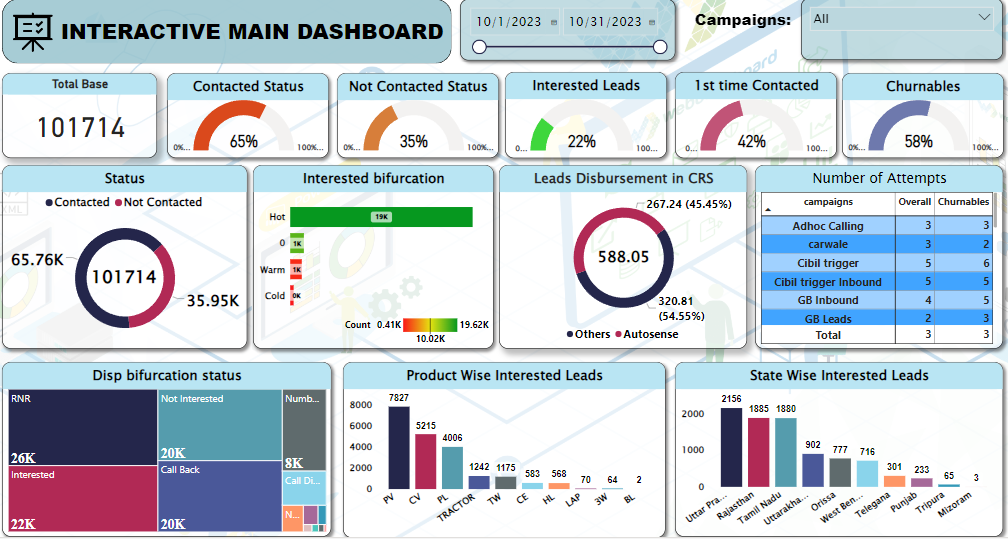

What the dashboard file says about the page in this screenshot:
{"tool":"powerbi","page":{"name":"main_dashboard","canvas":[1800,970],"ordinal":0},"visuals":[{"type":"shape","box":[9.7,15.5,797.3,114.5],"z":0},{"type":"slicer","title":"Date","fields":{"Values":["Date_lookup.Tele-calling"]},"box":[820.6,15.5,382.2,108.6],"z":1000},{"type":"slicer","title":"Campaigns","fields":{"Values":["Campaign_lookup.campaigns"]},"box":[1426,14,358,110],"z":2000},{"type":"card","title":"Total Base","fields":{"Values":["mis cons.count_mis"]},"box":[9.7,147.4,275.5,151.3],"z":3000},{"type":"gauge","title":"Contacted Status","fields":{"Y":["mis cons.%_Contacted_mis"]},"box":[300.7,147.4,287.1,151.3],"z":4000},{"type":"gauge","title":"Not Contacted Status","fields":{"Y":["mis cons.%_Not_contacted_mis"]},"box":[603.3,147.4,287.1,151.3],"z":5000},{"type":"donutChart","title":"Status","fields":{"Category":["mis cons jan.Status"],"Y":["CountNonNull(mis cons.Status)"]},"box":[9.7,310.4,434.6,325.9],"z":6000},{"type":"clusteredBarChart","title":"Interested bifurcation","fields":{"Category":["mis cons jan.LeadType","mis cons jan.Zone"],"Y":["mis cons jan.count_mis for Interested"]},"box":[454,310.4,426.8,325.9],"z":7000},{"type":"treemap","title":"Disp bifurcation status","fields":{"Values":["mis cons jan.count_mis"],"Group":["mis cons jan.corrected disp"]},"box":[9.7,659.6,583.9,310.4],"z":8000},{"type":"lineStackedColumnComboChart","title":"Product Wise Interested Leads","fields":{"Y":["mis cons jan.count_mis for Interested"],"Category":["mis cons jan.PRODUCT(PV/TW/3W/CV/CE/TRACTOR)","mis cons jan.PRODUCT INTERESTED"],"Series":["mis cons jan.PRODUCT(PV/TW/3W/CV/CE/TRACTOR)"]},"box":[613,659.6,572.3,312.3],"z":9000},{"type":"card","title":"Total Base","fields":{"Values":["mis cons jan.count_mis"]},"box":[156,486,138,46],"z":11000},{"type":"image","box":[9.7,25.2,108.6,98.9],"z":12000},{"type":"gauge","title":"Interested Leads","fields":{"Y":["mis cons.%_Interested_mis"]},"box":[900.2,145.5,287.1,153.3],"z":13000},{"type":"gauge","title":"1st time Contacted","fields":{"Y":["mis cons.%_1st_time_cont_mis"]},"box":[1202.8,145.5,287.1,153.3],"z":14000},{"type":"gauge","title":"Churnables","fields":{"Y":["mis cons.%_churnables_mis"]},"box":[1497.7,147.4,287.1,151.3],"z":15000},{"type":"lineStackedColumnComboChart","title":"State Wise Interested Leads","fields":{"Y":["mis cons.count_mis for Interested"],"Category":["mis cons.zone_mis"],"Series":["mis cons.zone_mis"]},"box":[1202.8,659.6,582,310.4],"z":16000},{"type":"donutChart","title":"Leads Disbursement in CRS","fields":{"Category":["disbursement1.Status.1"],"Y":["disbursement1.AMTFIN_CRS"]},"box":[890.5,310.4,440.4,325.9],"z":17000},{"type":"card","title":"Total Base","fields":{"Values":["disbursement1.AMTFIN_CRS"]},"box":[1026.3,450.1,168.8,46.6],"z":18000},{"type":"pivotTable","title":"Number of Attempts","fields":{"Rows":["Campaign_lookup_jan.campaigns"],"Values":["dump jan.overall_dials_attempt","dump jan.Churnables_attempt"]},"box":[1344,310,440,326],"z":19000},{"type":"textbox","box":[1231.9,10,194,77.6],"z":20000},{"type":"textbox","box":[108.6,40.7,698.4,83.4],"z":21000}]}

Visuals, with their boxes in screenshot pixels (x1, y1, x2, y2), scaled from the page's 1800x970 canvas onto the 1008x539 screenshot:
shape: {"x1": 5, "y1": 9, "x2": 452, "y2": 72}
"Date" slicer: {"x1": 460, "y1": 9, "x2": 674, "y2": 69}
"Campaigns" slicer: {"x1": 799, "y1": 8, "x2": 999, "y2": 69}
"Total Base" card: {"x1": 5, "y1": 82, "x2": 160, "y2": 166}
"Contacted Status" gauge: {"x1": 168, "y1": 82, "x2": 329, "y2": 166}
"Not Contacted Status" gauge: {"x1": 338, "y1": 82, "x2": 499, "y2": 166}
"Status" donutChart: {"x1": 5, "y1": 172, "x2": 249, "y2": 354}
"Interested bifurcation" clusteredBarChart: {"x1": 254, "y1": 172, "x2": 493, "y2": 354}
"Disp bifurcation status" treemap: {"x1": 5, "y1": 367, "x2": 332, "y2": 538}
"Product Wise Interested Leads" lineStackedColumnComboChart: {"x1": 343, "y1": 367, "x2": 664, "y2": 538}
"Total Base" card: {"x1": 87, "y1": 270, "x2": 165, "y2": 296}
image: {"x1": 5, "y1": 14, "x2": 66, "y2": 69}
"Interested Leads" gauge: {"x1": 504, "y1": 81, "x2": 665, "y2": 166}
"1st time Contacted" gauge: {"x1": 674, "y1": 81, "x2": 834, "y2": 166}
"Churnables" gauge: {"x1": 839, "y1": 82, "x2": 999, "y2": 166}
"State Wise Interested Leads" lineStackedColumnComboChart: {"x1": 674, "y1": 367, "x2": 999, "y2": 538}
"Leads Disbursement in CRS" donutChart: {"x1": 499, "y1": 172, "x2": 745, "y2": 354}
"Total Base" card: {"x1": 575, "y1": 250, "x2": 669, "y2": 276}
"Number of Attempts" pivotTable: {"x1": 753, "y1": 172, "x2": 999, "y2": 353}
textbox: {"x1": 690, "y1": 6, "x2": 799, "y2": 49}
textbox: {"x1": 61, "y1": 23, "x2": 452, "y2": 69}
